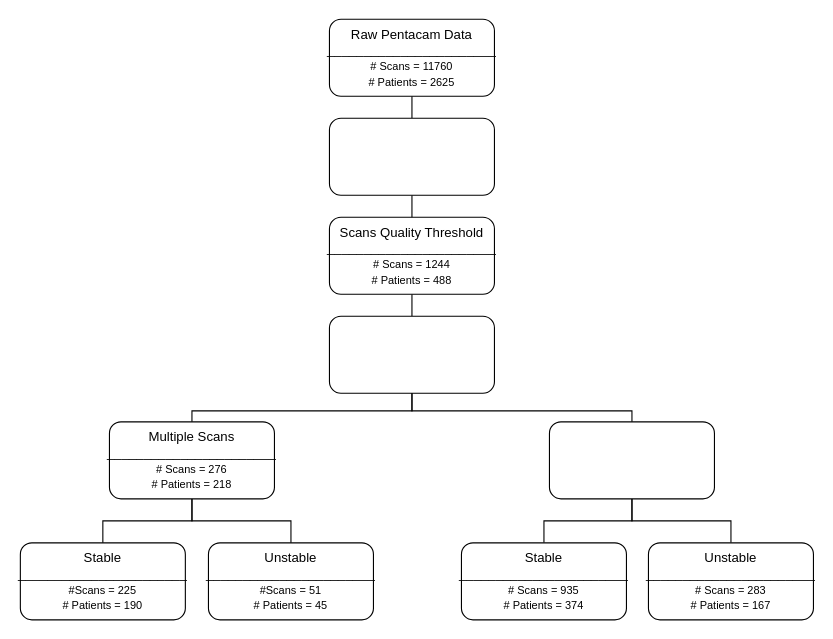
Image size: 833x639. Some labels were removed from this diagram. Each missing label, with the centre of its shape:
Pachymetria Threshold _______________________ # Scans = 1218 # Patients = 481: [411,354]
Single Scan _______________________ # Scans = 1218 # Patients = 481: [631,460]
Untreated KC _______________________ # Scans = 2828 # Patients = 645: [411,156]
